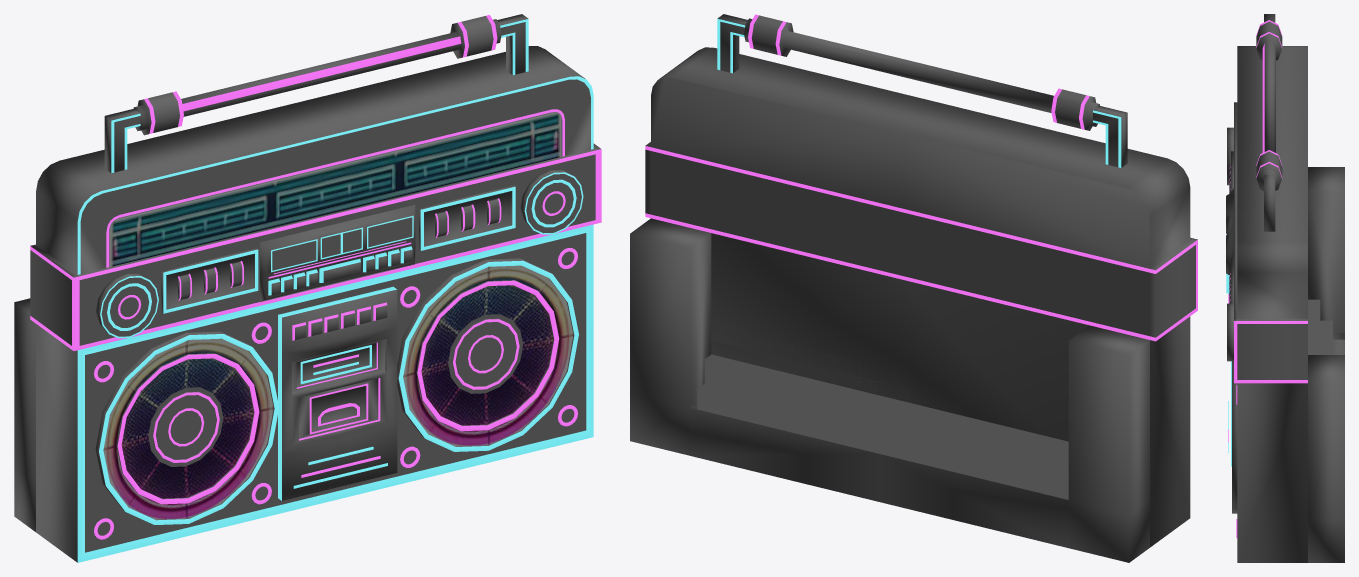
File: boom-box.glb
3 views of the same model, side by side, from view 1: azimuth 30°, elevation 25°; view 2: azimuth 150°, elevation 25°; view 3: azimuth 270°, elevation 25° (orthographic). The views are drawn at different scales.
Parts seen in each view (by area): view 1: boom-box; view 2: boom-box; view 3: boom-box.
Part boxes in pixels (x1,y1,x2,y2): boom-box: [14, 14, 601, 562]; boom-box: [630, 14, 1197, 562]; boom-box: [1226, 14, 1344, 562].
Size of what is drawn, in the model's own units: 3.54 by 2.75 by 0.8111.
